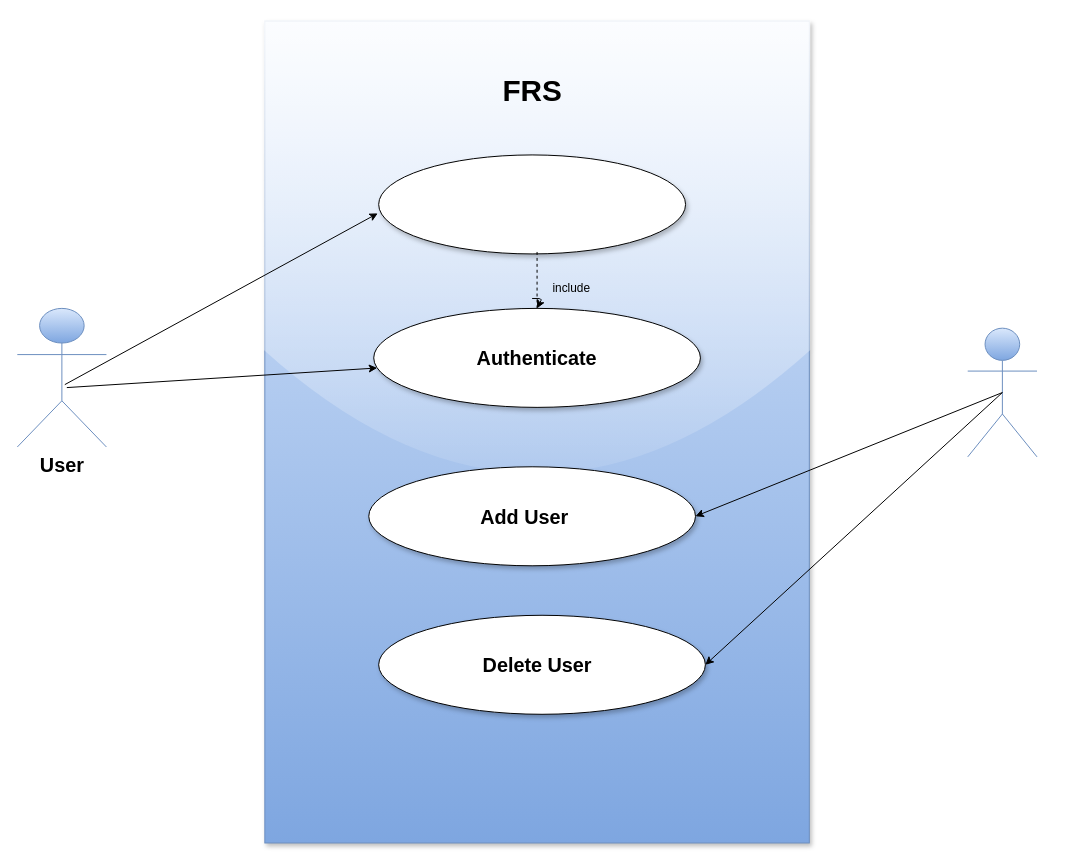
Image size: 1084x867. Some labels were removed from this diagram. The shapes that lost their labels are listed below. From the top down, each one's centre as x and y in pixels, then its label:
At [533,205]: "Ask to enter".
At [1002,392]: "Administrator".
